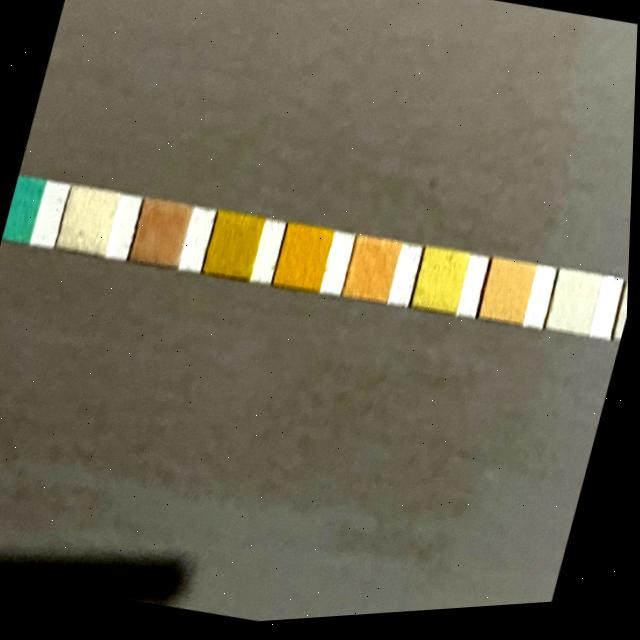Bilirubin: (57, 185, 120, 257)
Blood: (277, 228, 334, 294)
Glucose: (4, 175, 47, 244)
Ketone: (132, 200, 192, 268)
Leukocytes: (618, 289, 631, 344)
Nitrite: (550, 277, 602, 341)
Protein: (416, 253, 470, 318)
SpGravity: (206, 213, 264, 281)
Urobilinogen: (483, 265, 536, 331)
pH: (347, 239, 401, 306)
